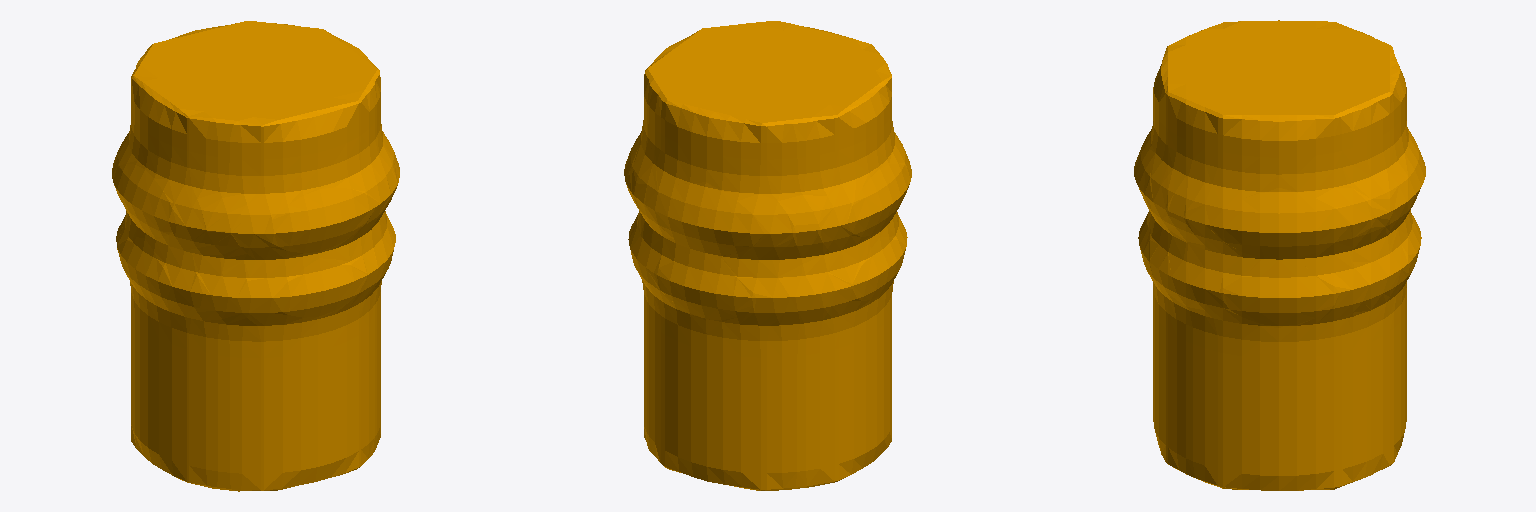
The robot description file, URDF, robot "cylinder_../../meshes/cylinders/cylinder_1.stl":
<?xml version="1.0" encoding="utf-8"?>  <robot name="cylinder_../../meshes/cylinders/cylinder_1.stl">   <link name="cylinder_../../meshes/cylinders/cylinder_1.stl">     <visual>       <geometry>         <mesh filename="../meshes/cylinders/cylinder_1.stl" scale="1 1 1"/>       </geometry>     </visual>     <collision>       <geometry>         <mesh filename="../meshes/cylinders/cylinder_1.stl" scale="1 1 1"/>       </geometry>     </collision>     <inertial>        <origin         xyz="0 0 0"         rpy="0 0 0" />       <mass value="0.4351765697669756"/>       <origin rpy="0 0 0" xyz="0 0 0"/>       <inertia ixx="0.0005700432053422615" ixy="1.1410639662344554e-09" ixz="9.73046234974218e-09" iyy="0.0005700431631479676" iyz="1.6963538685328005e-08" izz="0.00027160002893643586"/>     </inertial>   </link>  </robot>

--- Facts derived from the render (not from the file) ---
The picture shows the robot from 3 angles, left to right: view 1: azimuth 30°, elevation 25°; view 2: azimuth 150°, elevation 25°; view 3: azimuth 270°, elevation 25°; orthographic projection.
Robot: cylinder_../../meshes/cylinders/cylinder_1.stl — 1 links, 0 joints (none); root link cylinder_../../meshes/cylinders/cylinder_1.stl; default pose: every joint at zero.
Links seen in each view (by area): view 1: cylinder_../../meshes/cylinders/cylinder_1.stl; view 2: cylinder_../../meshes/cylinders/cylinder_1.stl; view 3: cylinder_../../meshes/cylinders/cylinder_1.stl.
Boxes of the visible links, box(x1,y1,x2,y2) form: cylinder_../../meshes/cylinders/cylinder_1.stl: box(112, 21, 399, 491); cylinder_../../meshes/cylinders/cylinder_1.stl: box(624, 21, 911, 490); cylinder_../../meshes/cylinders/cylinder_1.stl: box(1134, 20, 1425, 490).
Bounding box of the posed robot: 0.0791 × 0.0791 × 0.112 m (x, y, z).
1 mesh visuals loaded from 1 distinct referenced files (1 binary STL).